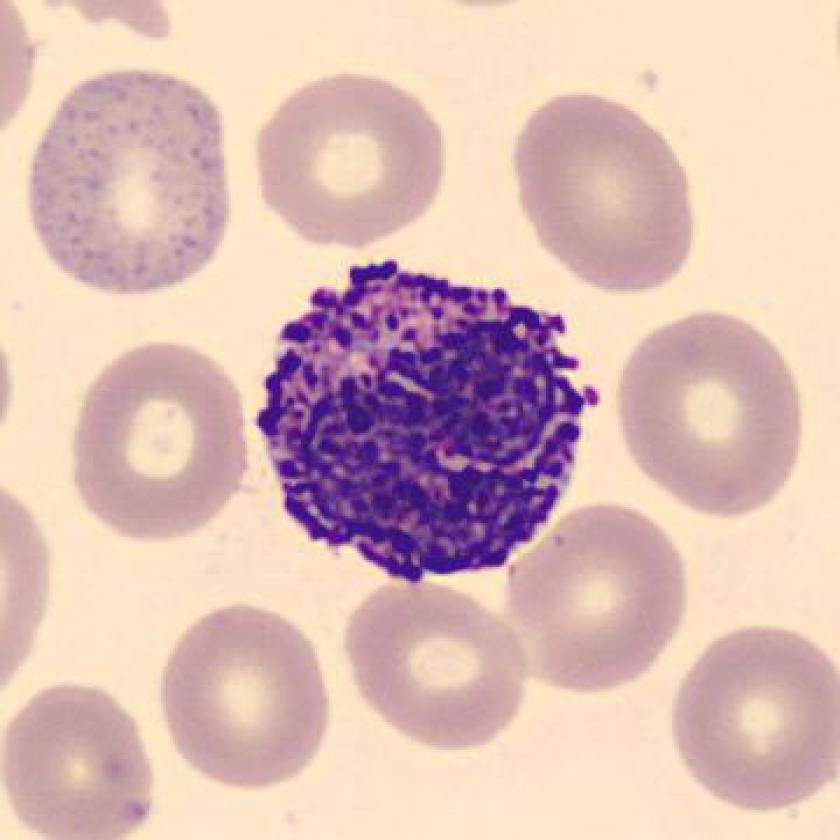basophil: (255, 253, 601, 596)
